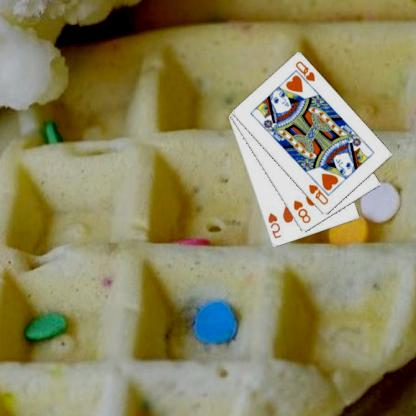5H: (267, 210, 284, 240)
8H: (292, 197, 314, 225)
QH: (294, 58, 318, 90), (308, 182, 332, 206)
